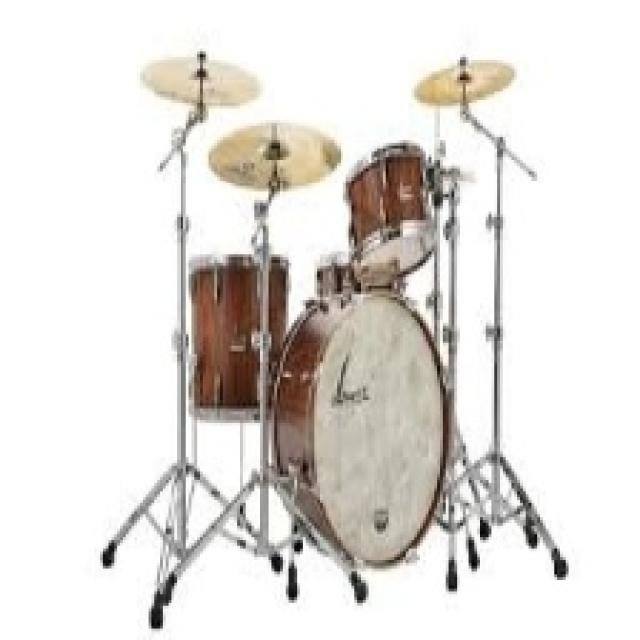drums: (136, 50, 535, 568)
